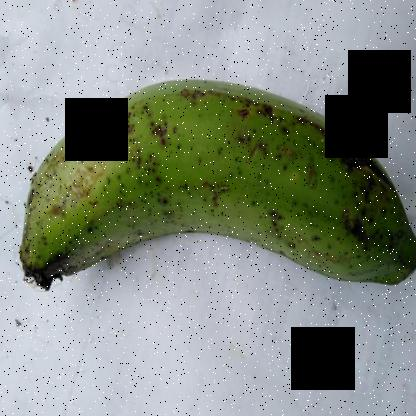unripe: (13, 63, 415, 328)
